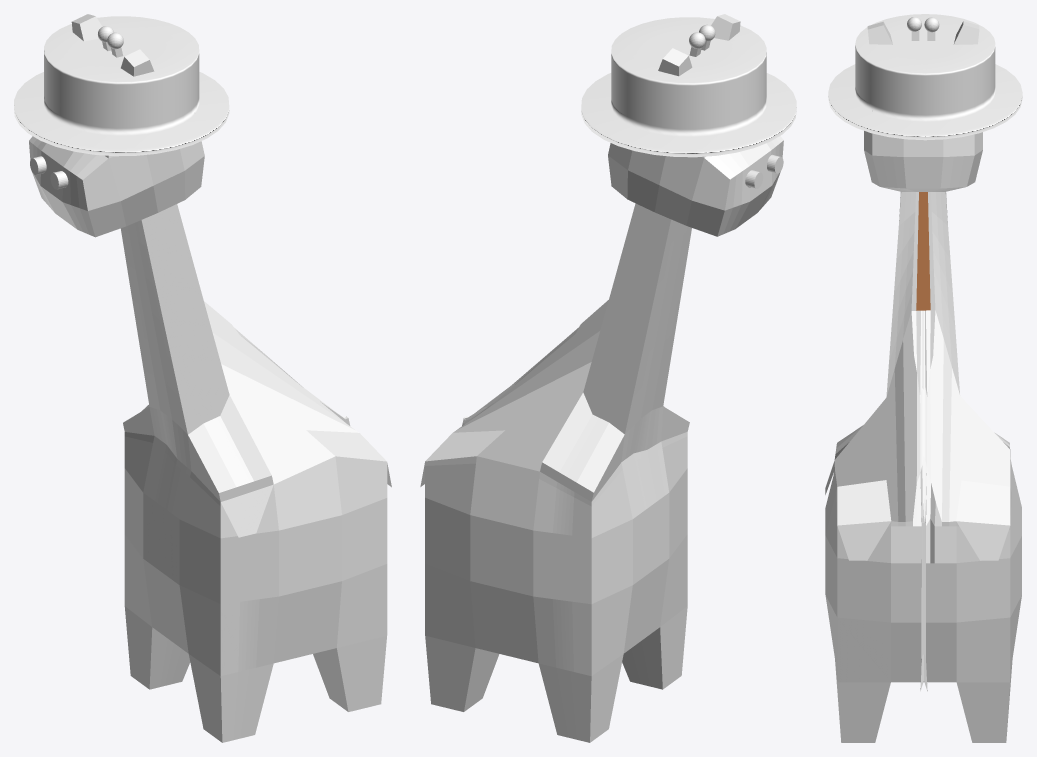
The model's file is rafrafwalking_phoed.gltf.
3 views of the same model, side by side, from view 1: azimuth 30°, elevation 25°; view 2: azimuth 150°, elevation 25°; view 3: azimuth 270°, elevation 25° (orthographic). The views are drawn at different scales.
Parts seen in each view (by area): view 1: Cube, Cylinder, Cube.002, Cube.001, Cube.003; view 2: Cube, Cylinder, Cube.003, Cube.004, Cube.002; view 3: Cube, Cylinder, Cube.001, Cube.004.
Boxes of the visible parts, x1,y1,x2,y2 form: Cube: [29, 14, 391, 675]; Cylinder: [14, 16, 229, 156]; Cube.002: [188, 654, 273, 742]; Cube.001: [313, 636, 386, 711]; Cube.003: [124, 606, 190, 689]; Cube: [420, 14, 783, 675]; Cylinder: [581, 17, 796, 157]; Cube.003: [538, 654, 623, 742]; Cube.004: [425, 635, 499, 711]; Cube.002: [622, 606, 687, 689]; Cube: [825, 17, 1021, 691]; Cylinder: [828, 14, 1022, 140]; Cube.001: [835, 661, 890, 742]; Cube.004: [956, 663, 1012, 742].
Bounding box in the file's own units: 3.76 × 7.03 × 2.
